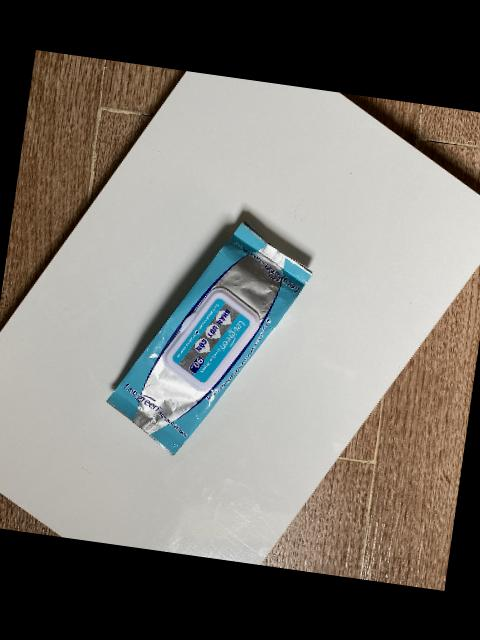Let-green_alcohol_wipes: (106, 219, 315, 455)
